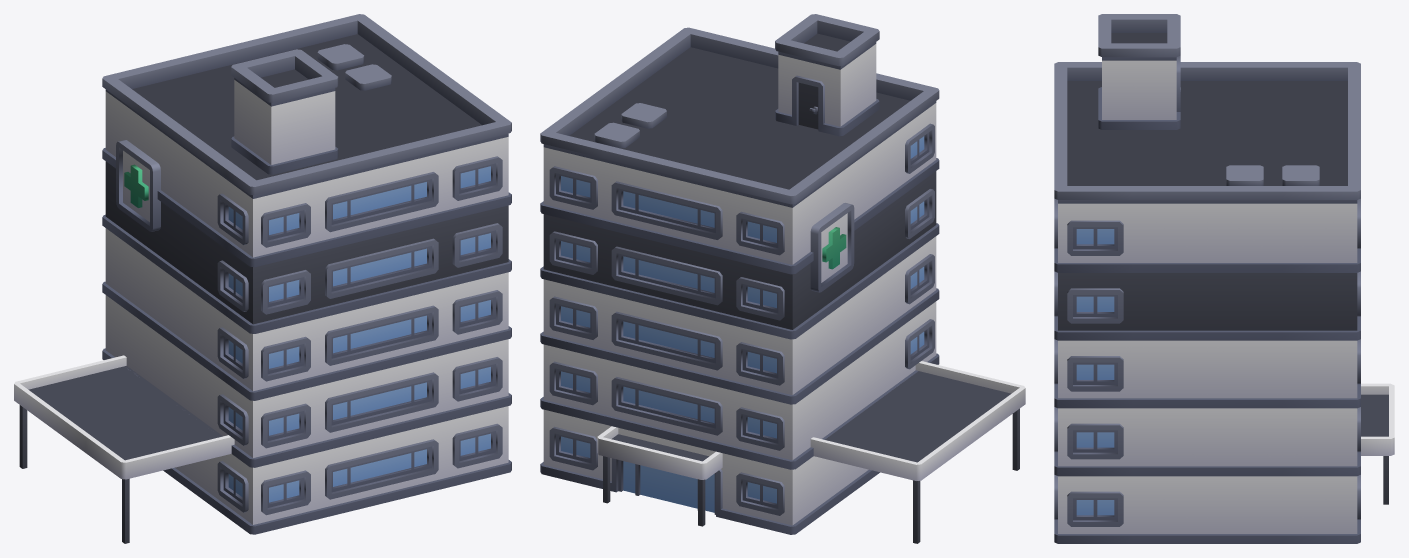
The model's file is Building06.glb.
3 renders of one model, left to right at view 1: azimuth 30°, elevation 25°; view 2: azimuth 150°, elevation 25°; view 3: azimuth 270°, elevation 25°, orthographic. The views are drawn at different scales.
Parts seen in each view (by area): view 1: building-n; view 2: building-n; view 3: building-n.
Boxes of the visible parts, x1=… form: building-n: x1=14, y1=14, x2=511, y2=543; building-n: x1=540, y1=14, x2=1025, y2=543; building-n: x1=1054, y1=14, x2=1394, y2=543.
Size of the model in its own units: 2.32 by 2.48 by 1.82.
Materials: 1 (1 with a texture image).
